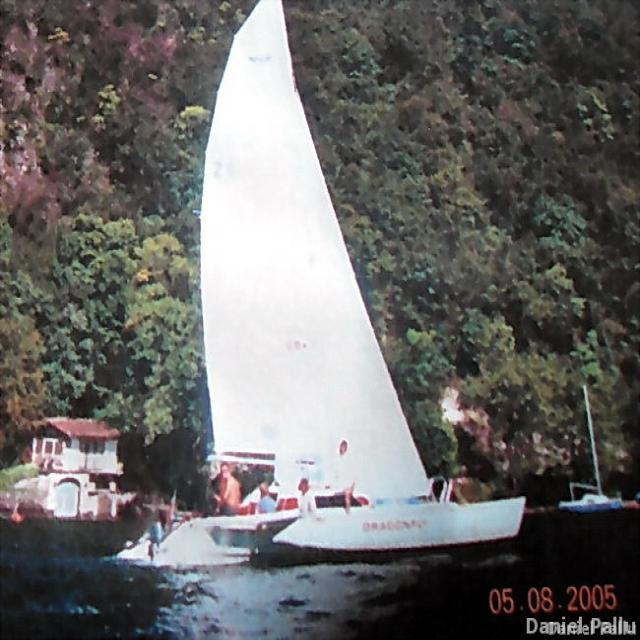Ship: (153, 1, 534, 577), (570, 384, 640, 515)
